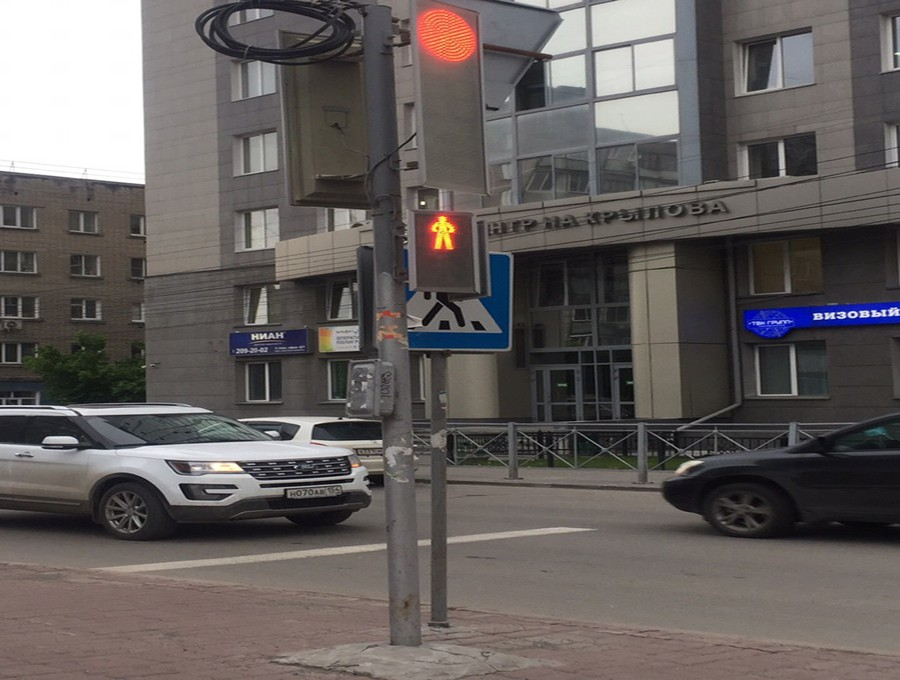Traffic Light-red: (407, 192, 500, 302)
